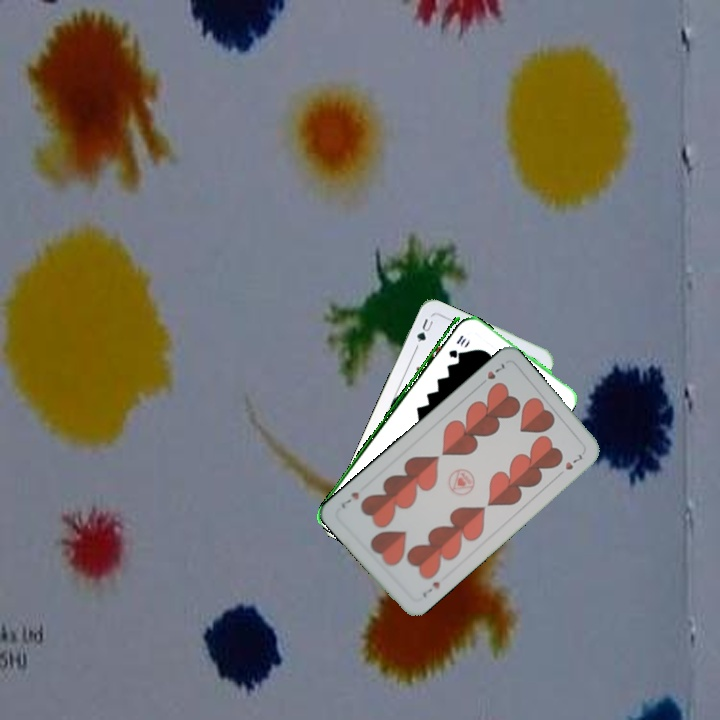G10: (444, 331, 466, 361)
GU: (411, 314, 437, 351)
H7: (475, 359, 509, 389), (418, 578, 442, 600)
